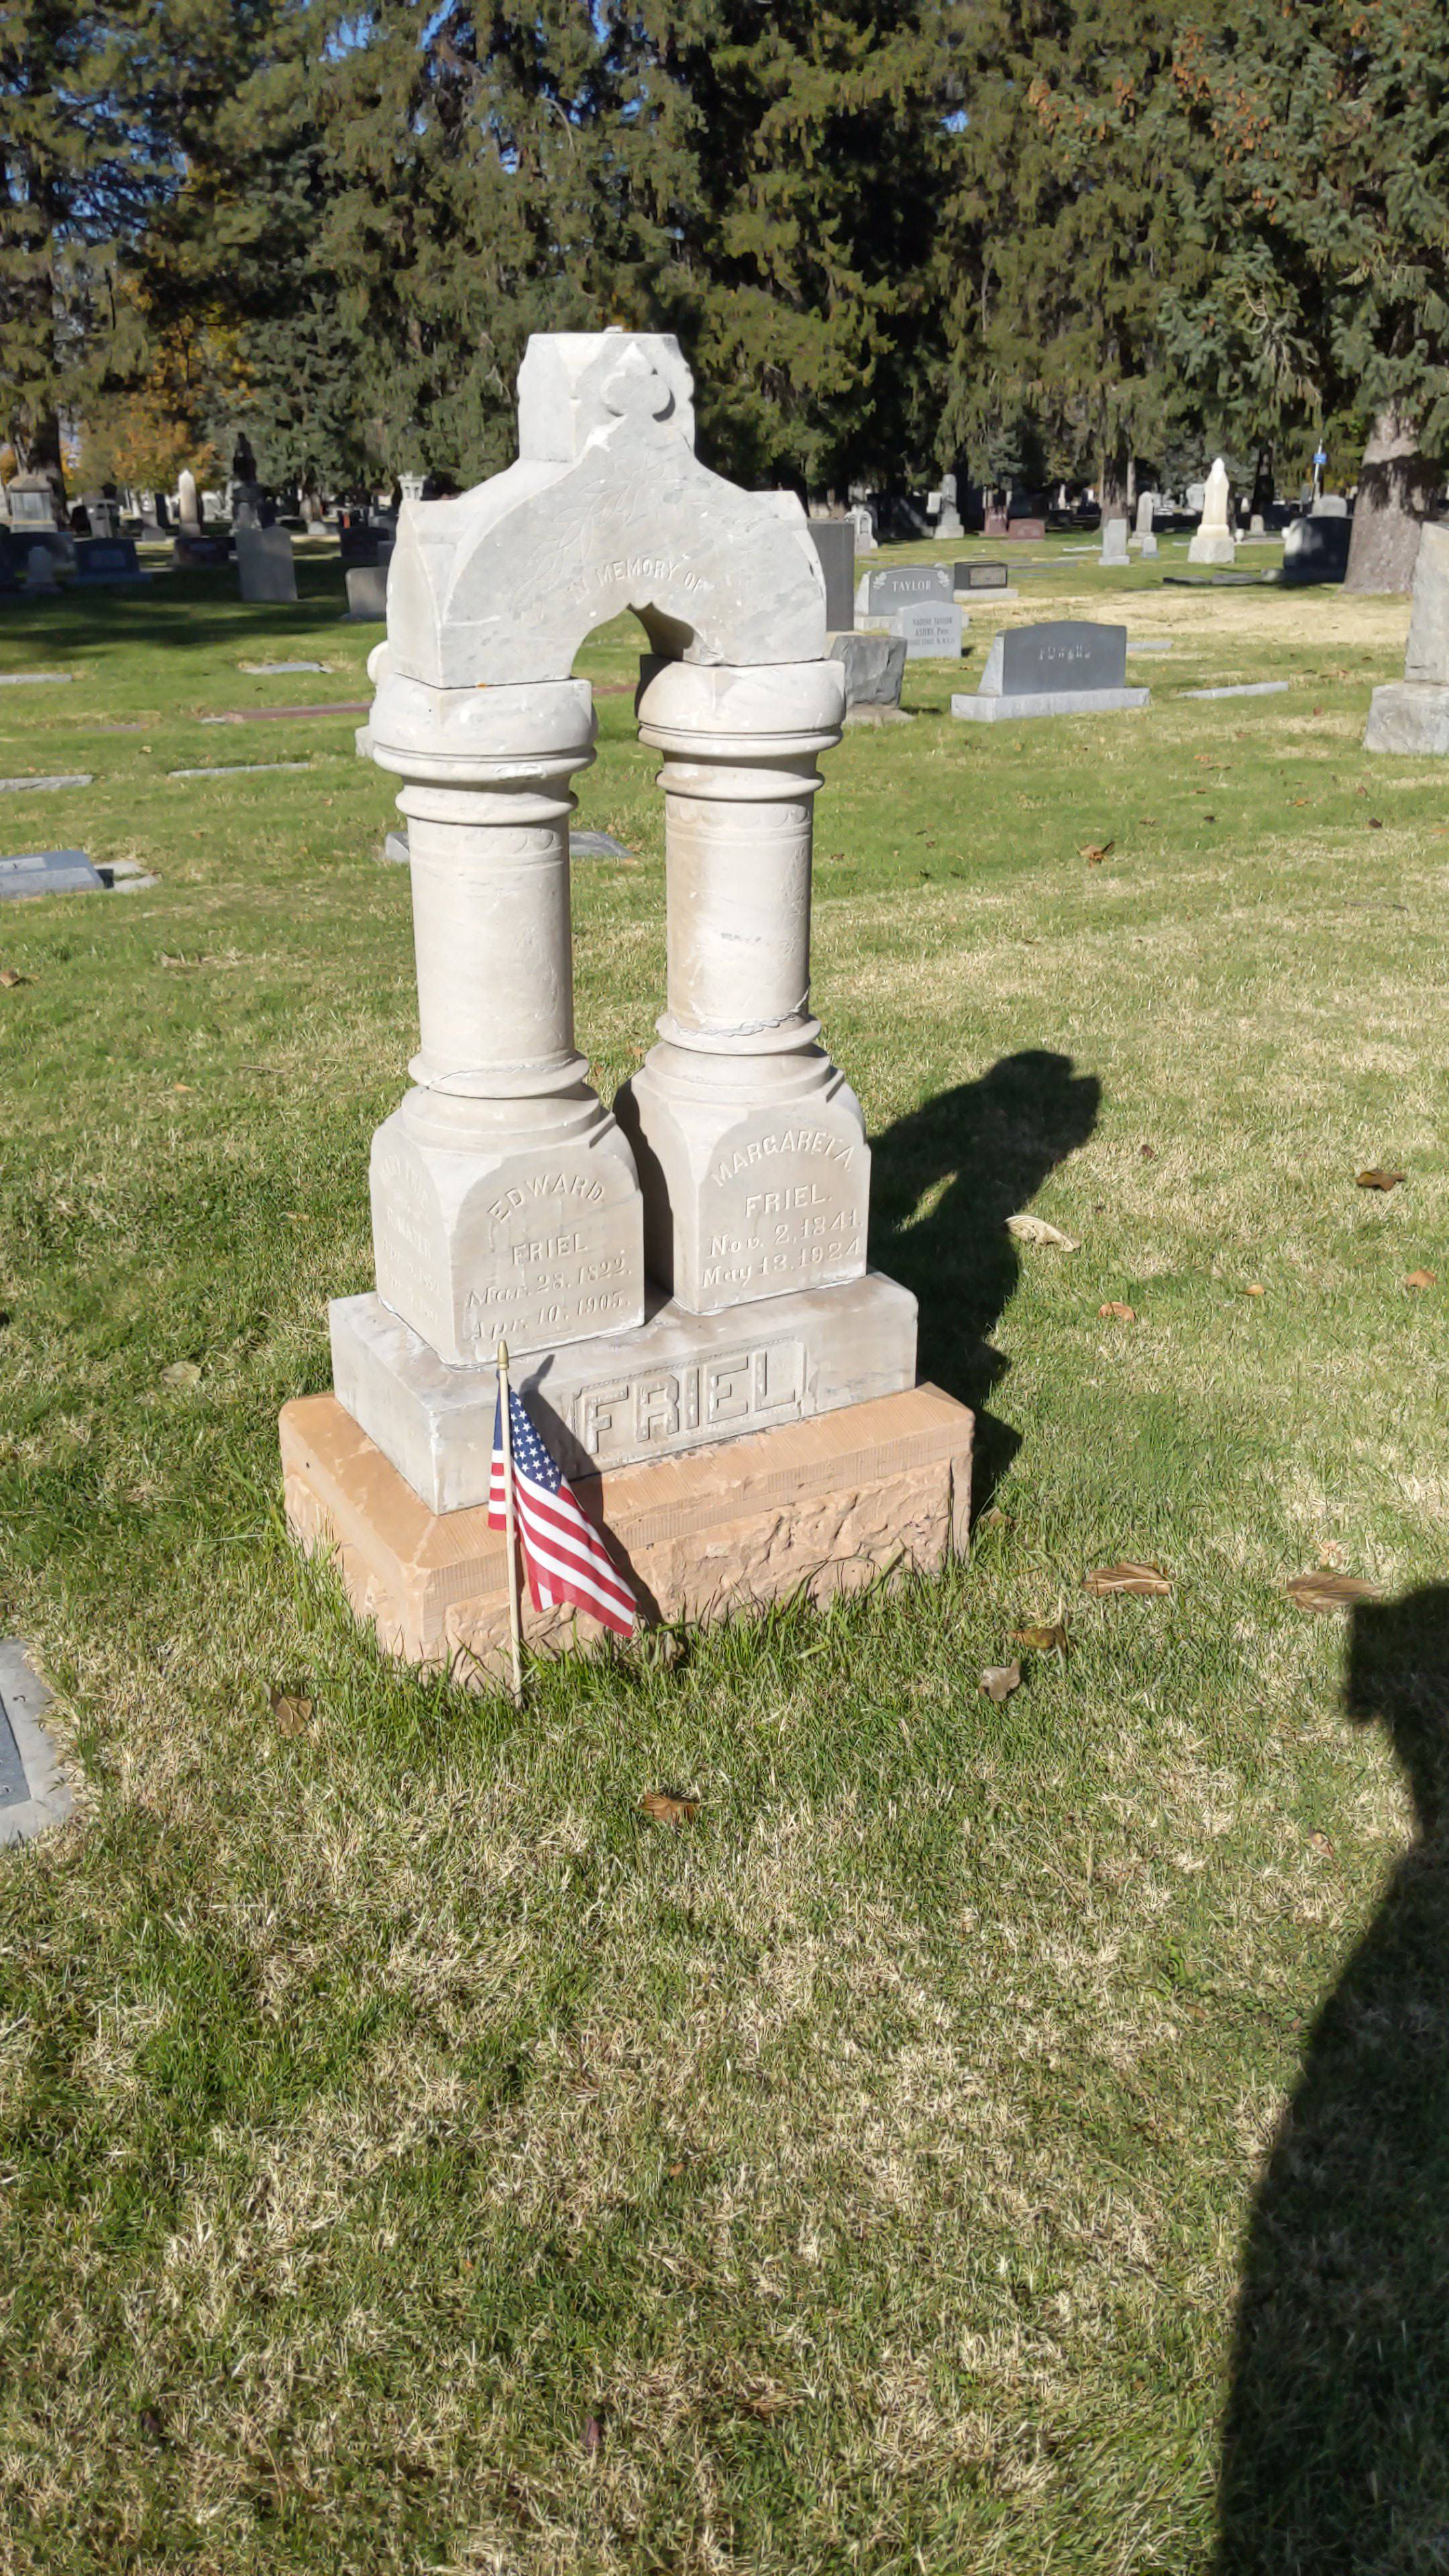obelisk: (327, 327, 916, 1520)
